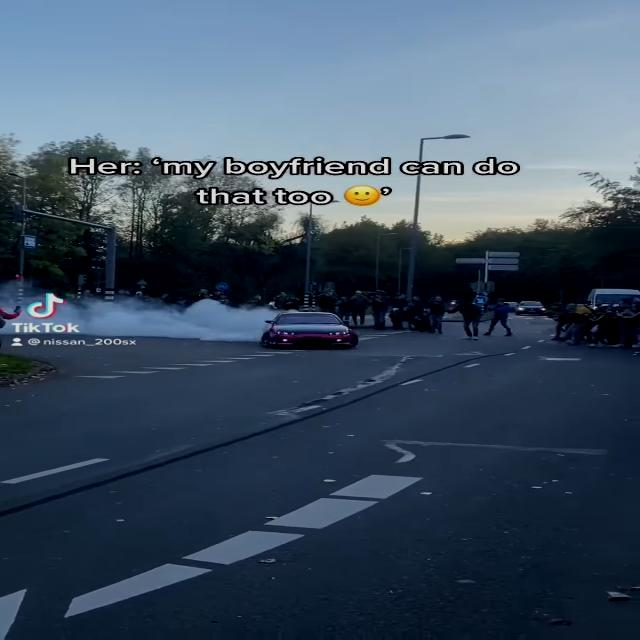car: (271, 312, 360, 351)
